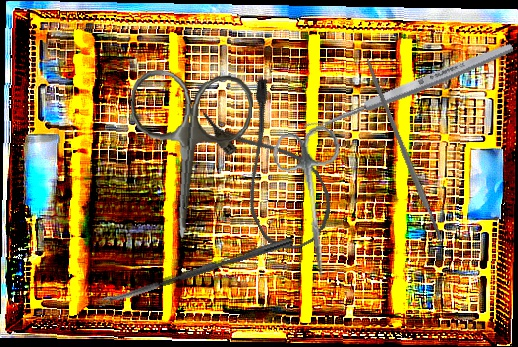Cannula: (199, 75, 345, 261)
Iris Scissors: (119, 67, 256, 244), (270, 123, 358, 284)
Scalpel Handle: (363, 58, 444, 242)
Surgical Spoon: (301, 40, 516, 138), (96, 235, 294, 308)
